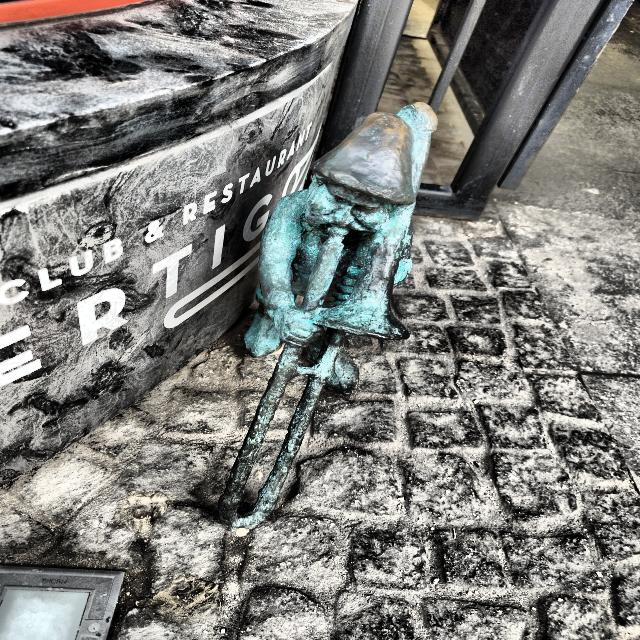Vertigus: (218, 102, 437, 529)
